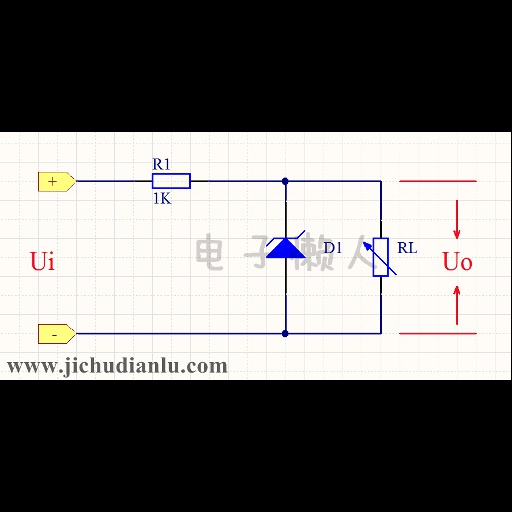firstresistance: (147, 171, 200, 191)
